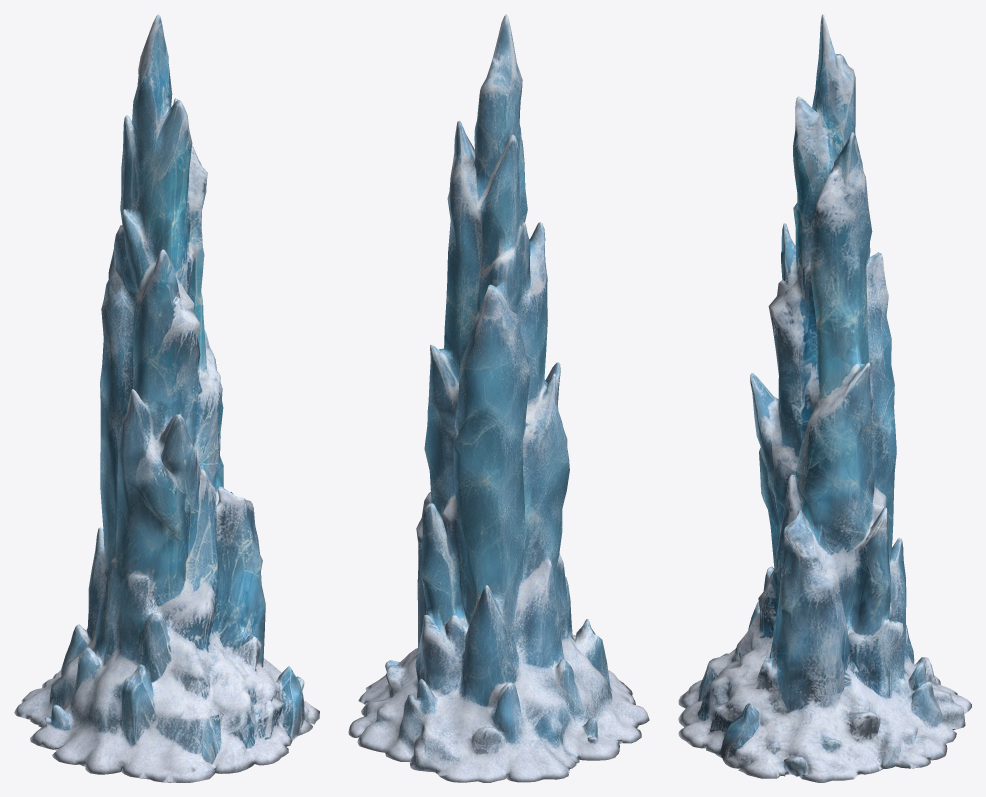
The model's file is crypte_decor_colonne.glb.
3 renders of one model, left to right at view 1: azimuth 30°, elevation 25°; view 2: azimuth 150°, elevation 25°; view 3: azimuth 270°, elevation 25°, orthographic.
Bounding box in the file's own units: 0.3638 × 0.9521 × 0.3613.
Materials: 1 (1 with a texture image).
